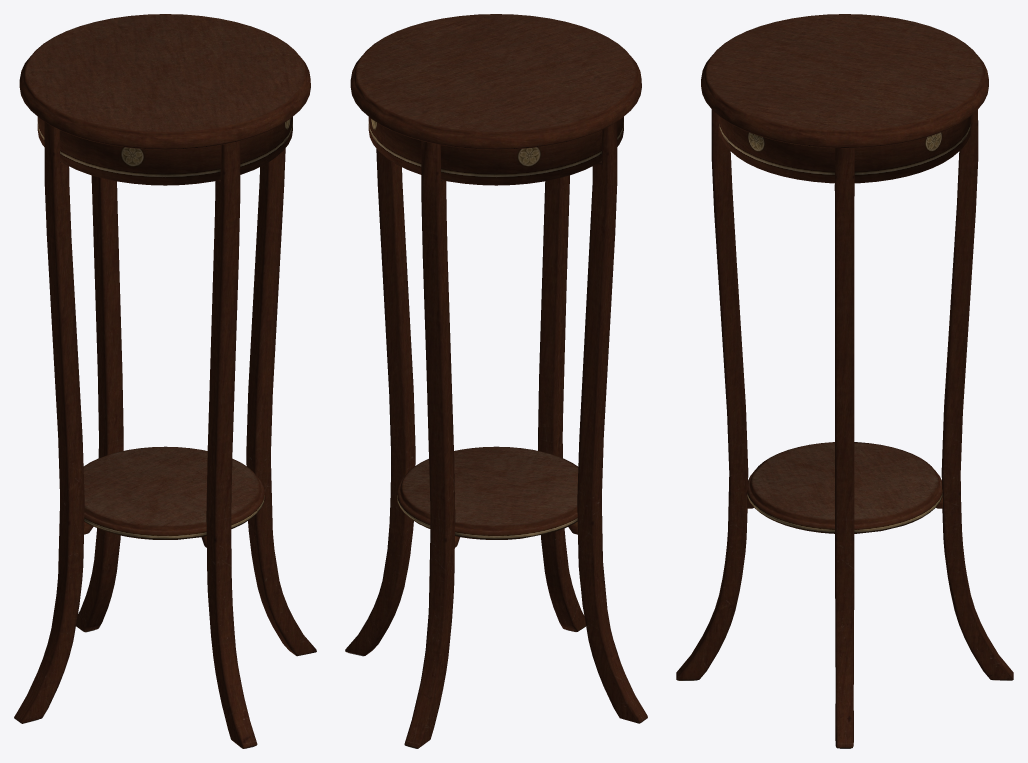
Rendered from side_table_tall_01.glb.
3 views of the same model, side by side, from view 1: azimuth 30°, elevation 25°; view 2: azimuth 150°, elevation 25°; view 3: azimuth 270°, elevation 25° (orthographic).
Parts seen in each view (by area): view 1: side_table_tall_01; view 2: side_table_tall_01; view 3: side_table_tall_01.
Part boxes in pixels (x1=…): side_table_tall_01: x1=14, y1=14, x2=316, y2=748; side_table_tall_01: x1=345, y1=14, x2=647, y2=748; side_table_tall_01: x1=676, y1=14, x2=1013, y2=748.
Size of the model in its own units: 0.384 by 0.7612 by 0.384.
Materials: 1 (1 with a texture image).
